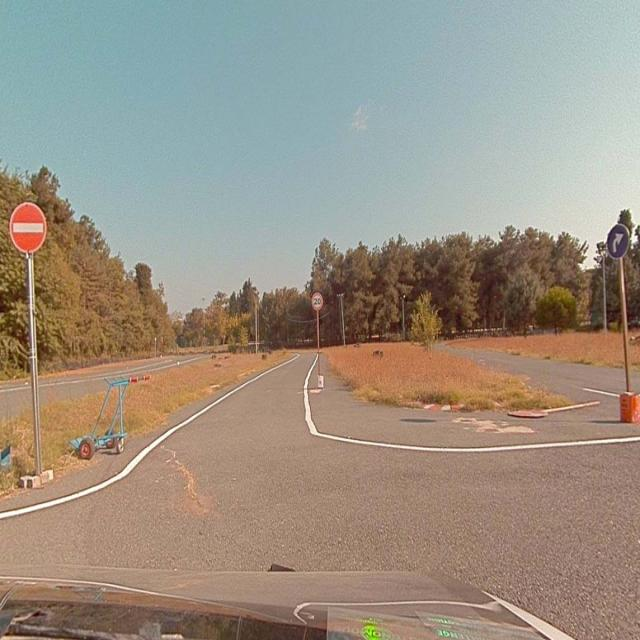20: (312, 292, 323, 310)
girisyok: (10, 203, 44, 250)
sag: (606, 225, 628, 256)
